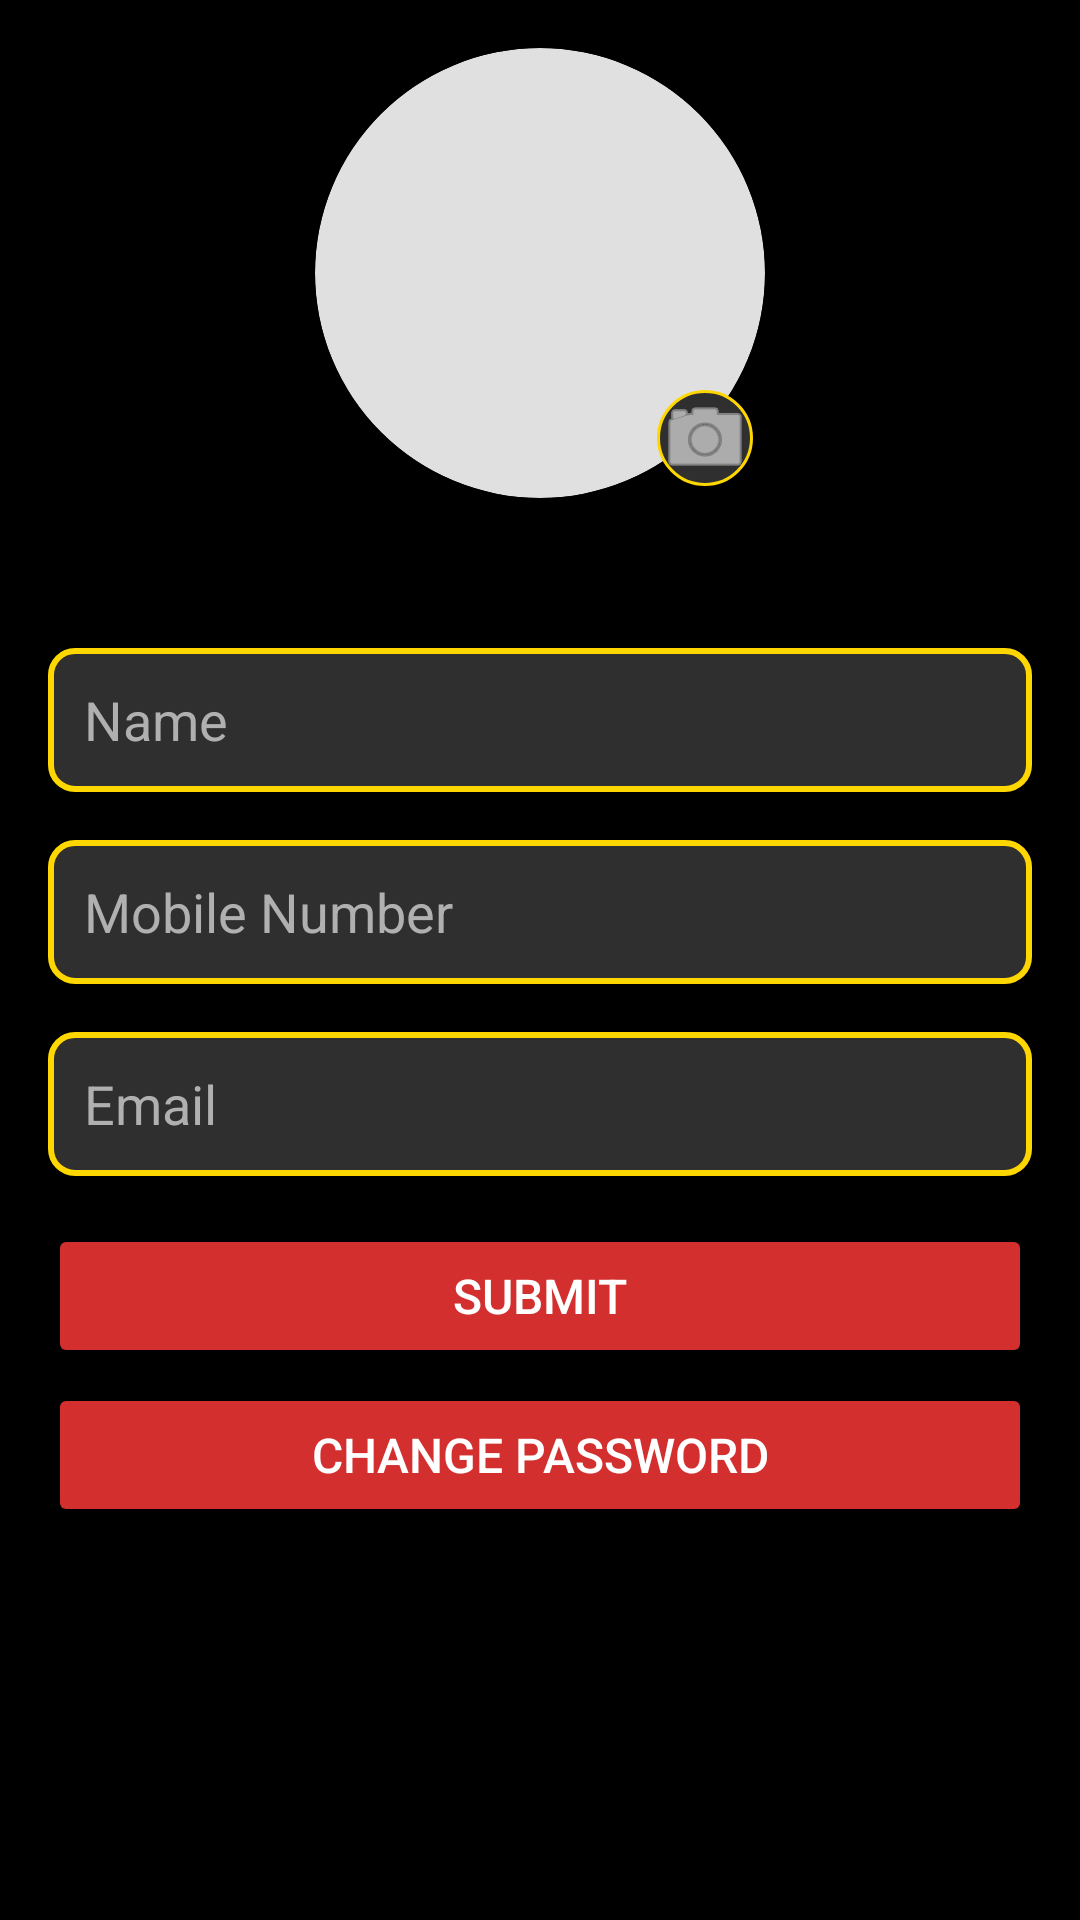

Icons on this 1080×1920 Android screen, each with the point to tap as [x,y]:
camera: [705,438]
